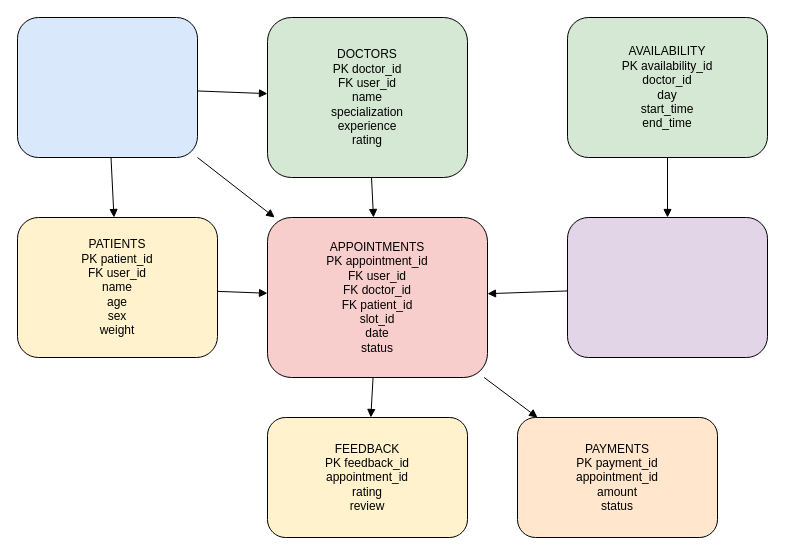
Some shapes in this 785 by 555 pixel diagram are drawn without their labels. The shapes that lost their labels are listed below. From the top down, each one's box as (x1, y1, x2, y2) in pixels, then its label:
(16, 16, 198, 158): USERS PK user_id phone password role created_at
(566, 216, 768, 358): TIME_SLOTS PK slot_id availability_id slot_time is_booked
